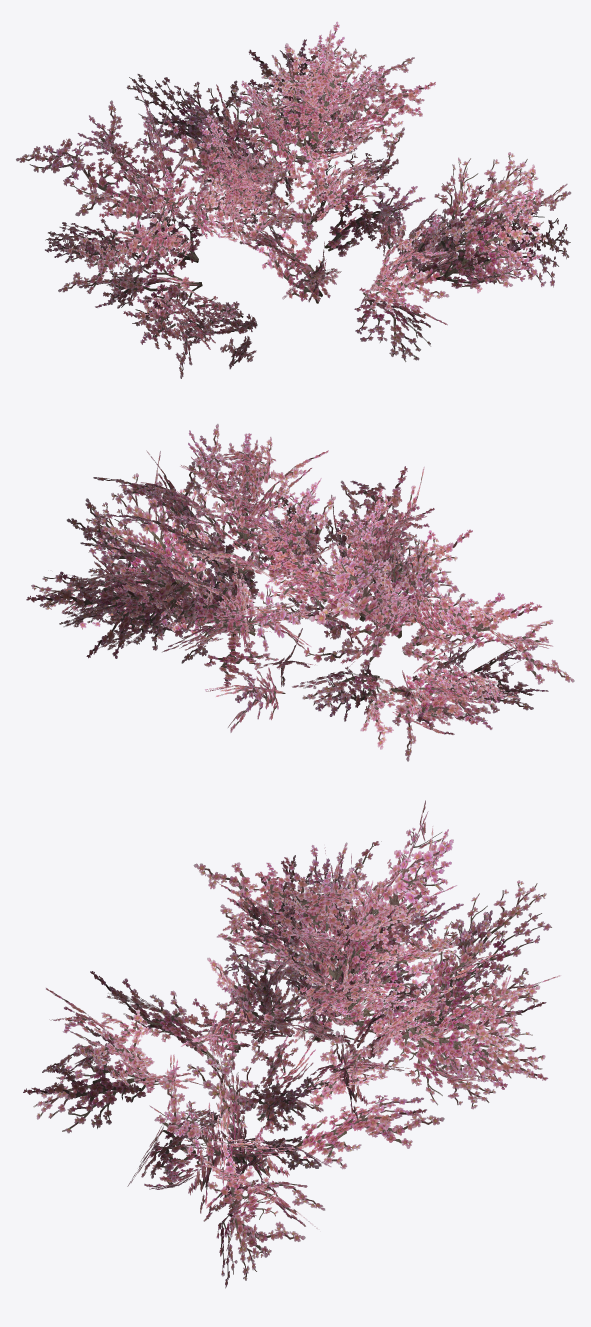
Rendered from p_com_taoshuye01_01.FBX.
The picture shows the model from 3 angles, top to bottom: view 1: azimuth 30°, elevation 25°; view 2: azimuth 150°, elevation 25°; view 3: azimuth 270°, elevation 25°; orthographic projection. The views are drawn at different scales.
Visible parts, largest first — view 1: p_com_taoshuye01_01; view 2: p_com_taoshuye01_01; view 3: p_com_taoshuye01_01.
Boxes of the visible parts, x1,y1,x2,y2 form: p_com_taoshuye01_01: (16, 21, 571, 378); p_com_taoshuye01_01: (26, 423, 574, 761); p_com_taoshuye01_01: (23, 800, 560, 1288).
Bounding box in the file's own units: 19.52 × 10.36 × 15.48.
